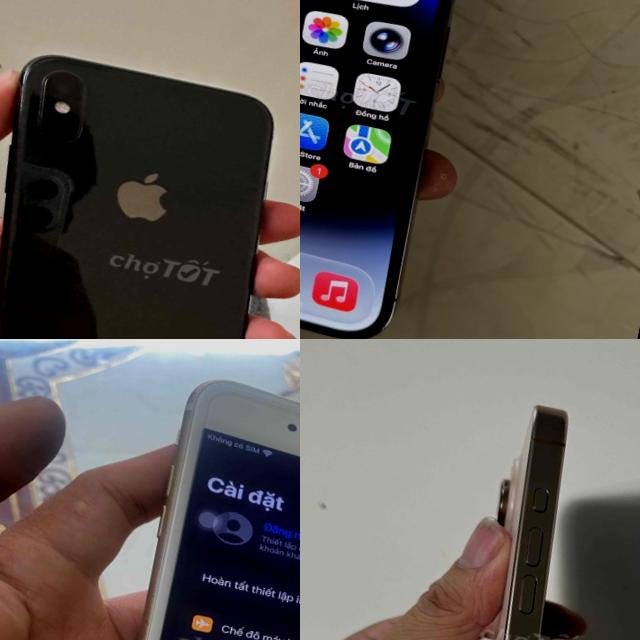gen_14: (300, 0, 492, 339)
gen_16: (494, 406, 567, 640)
gen_7_8: (79, 362, 300, 640)
gen_x_xs: (0, 42, 300, 339)
